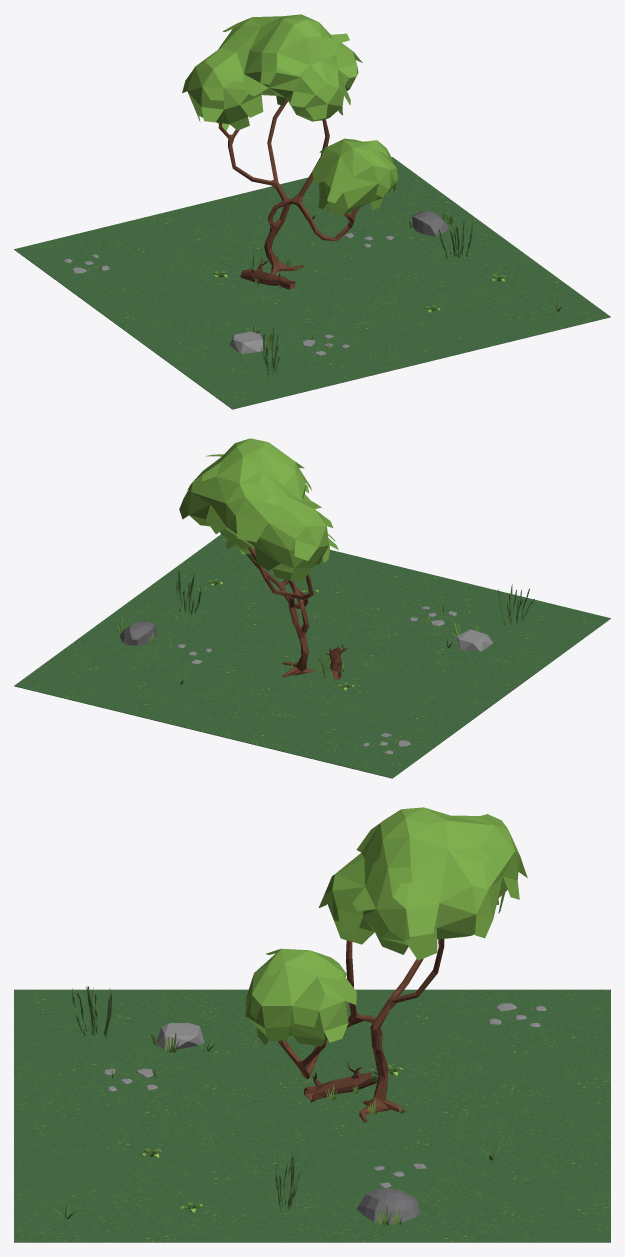
The picture shows the model from 3 angles, top to bottom: view 1: azimuth 30°, elevation 25°; view 2: azimuth 150°, elevation 25°; view 3: azimuth 270°, elevation 25°; orthographic projection. The views are drawn at different scales.
Parts seen in each view (by area): view 1: EP_04; view 2: EP_04; view 3: EP_04.
Boxes of the visible parts, <box> form: EP_04: <box>14,14,610,409</box>; EP_04: <box>14,438,610,778</box>; EP_04: <box>14,807,610,1242</box>.
Size of what is drawn, in the model's own units: 16 by 9.65 by 16.
Materials: 1 (1 with a texture image).
